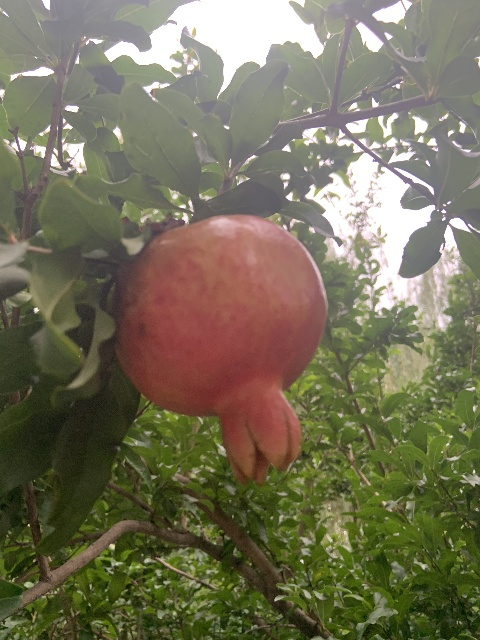ripe: (113, 214, 328, 486)
